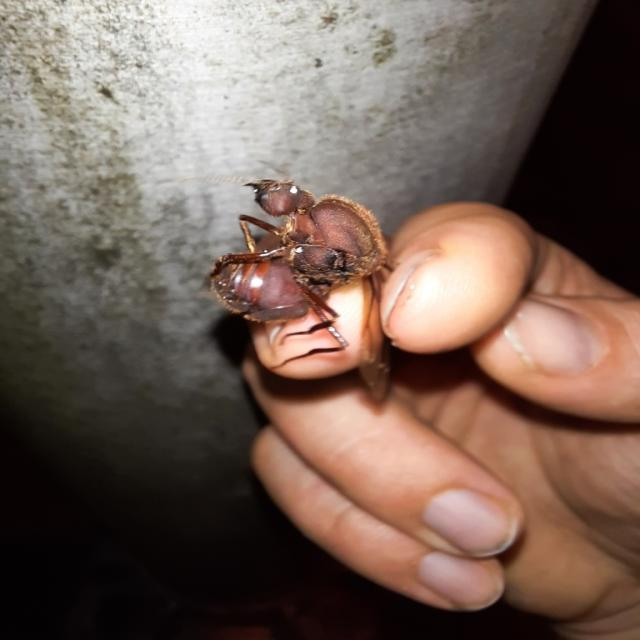Dead-Female-Alate: (180, 160, 390, 401)
